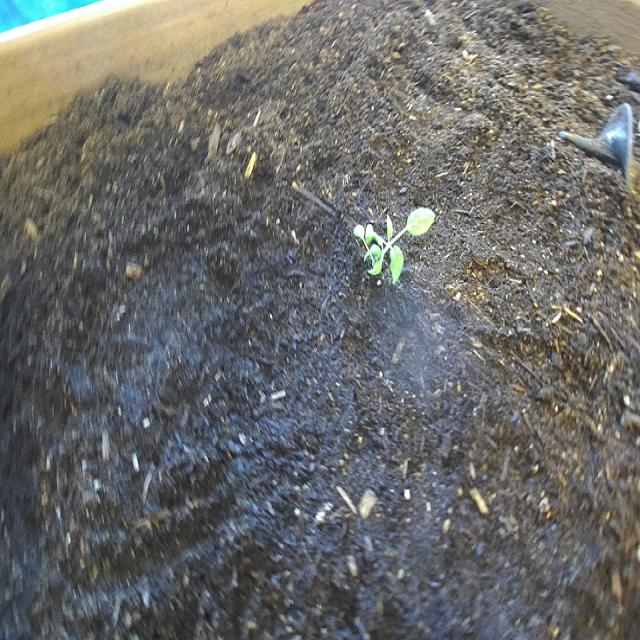Healthy: (352, 200, 438, 288)
